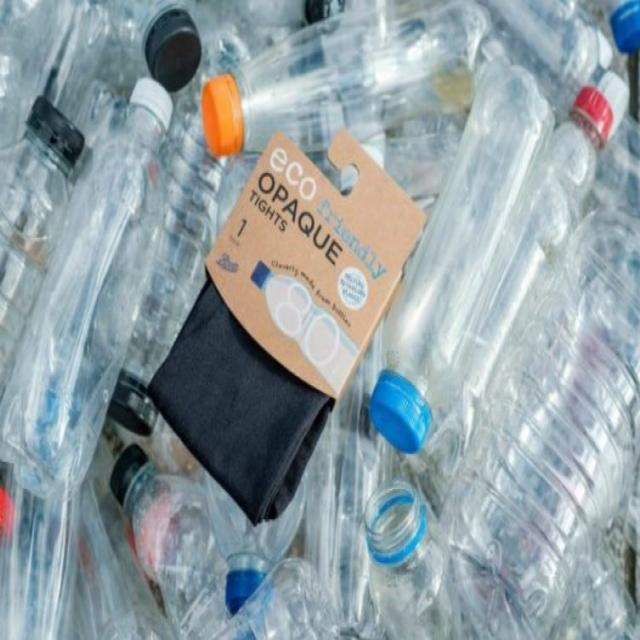dry: (423, 4, 640, 637), (17, 39, 186, 532), (210, 93, 422, 379)
